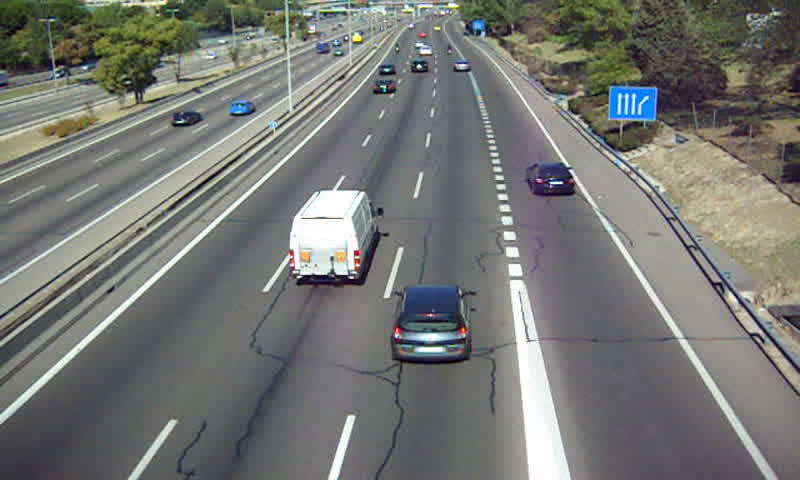car: (391, 285, 469, 362), (528, 162, 574, 195), (372, 80, 396, 97), (377, 62, 397, 76), (409, 60, 428, 74), (452, 59, 471, 72)
van: (290, 190, 383, 285)
